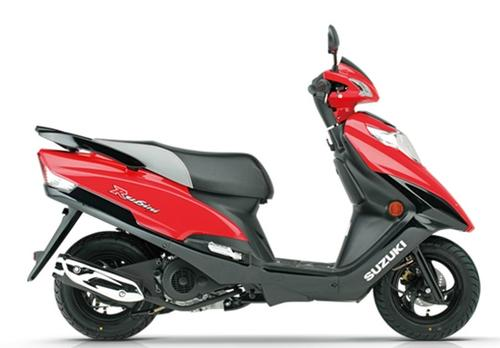motor: (36, 36, 480, 344)
